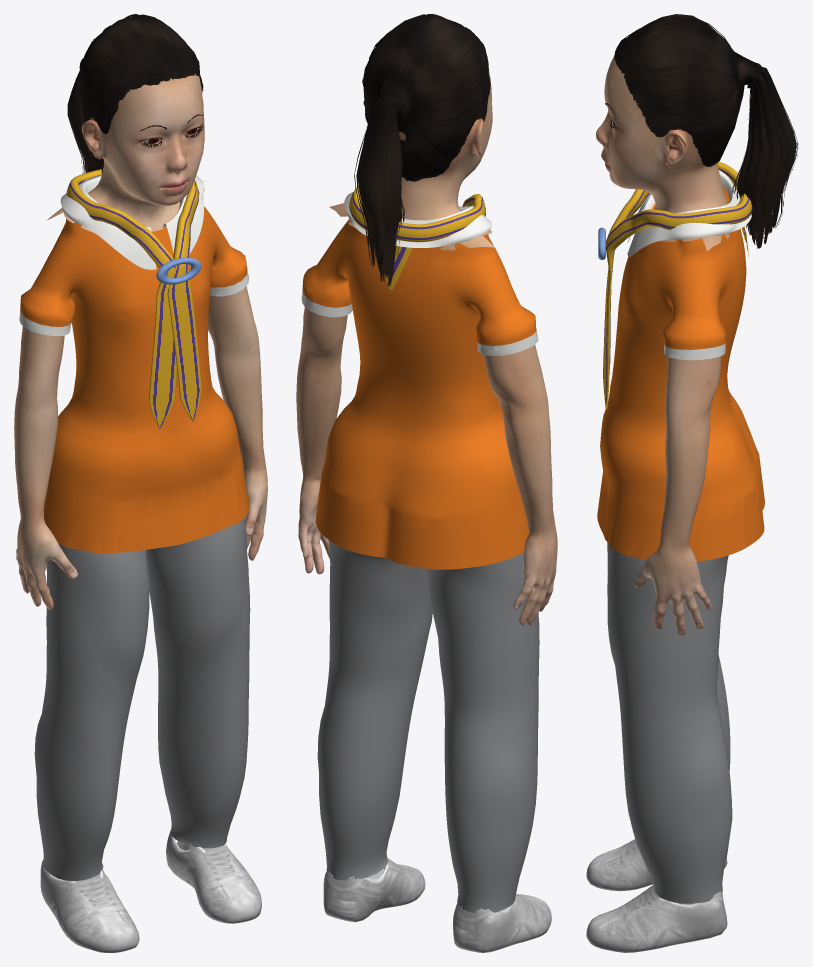
The model's file is grasshopper_girl_v1.0.glb.
3 renders of one model, left to right at view 1: azimuth 30°, elevation 25°; view 2: azimuth 150°, elevation 25°; view 3: azimuth 270°, elevation 25°, orthographic. The views are drawn at different scales.
Parts seen in each view (by area): view 1: trousers, shirt, body, shoes, neckerchief, hair, collar, sleeve_bands, woggle; view 2: trousers, shirt, body, hair, shoes, neckerchief, collar, sleeve_bands; view 3: shirt, trousers, body, hair, shoes, neckerchief, collar, sleeve_bands.
Boxes of the visible parts, <box> form: trousers: <box>34,517,250,880</box>; shirt: <box>20,191,249,553</box>; body: <box>14,73,267,609</box>; shoes: <box>40,831,261,952</box>; neckerchief: <box>66,169,201,428</box>; hair: <box>67,14,203,173</box>; collar: <box>60,174,204,269</box>; sleeve_bands: <box>19,269,248,336</box>; woggle: <box>156,257,201,284</box>; trousers: <box>317,540,539,913</box>; shirt: <box>302,219,536,569</box>; body: <box>296,70,557,625</box>; hair: <box>354,14,490,286</box>; shoes: <box>323,858,551,952</box>; neckerchief: <box>349,186,485,242</box>; collar: <box>344,192,491,247</box>; sleeve_bands: <box>301,290,538,355</box>; shirt: <box>597,186,764,561</box>; trousers: <box>607,542,732,903</box>; body: <box>596,56,739,635</box>; hair: <box>614,14,798,248</box>; shoes: <box>586,839,727,952</box>; neckerchief: <box>603,162,752,408</box>; collar: <box>627,170,751,256</box>; sleeve_bands: <box>664,343,725,360</box>.
Bounding box in the file's own units: 0.3364 × 1.18 × 0.2527.
12 materials, 7 textured.
